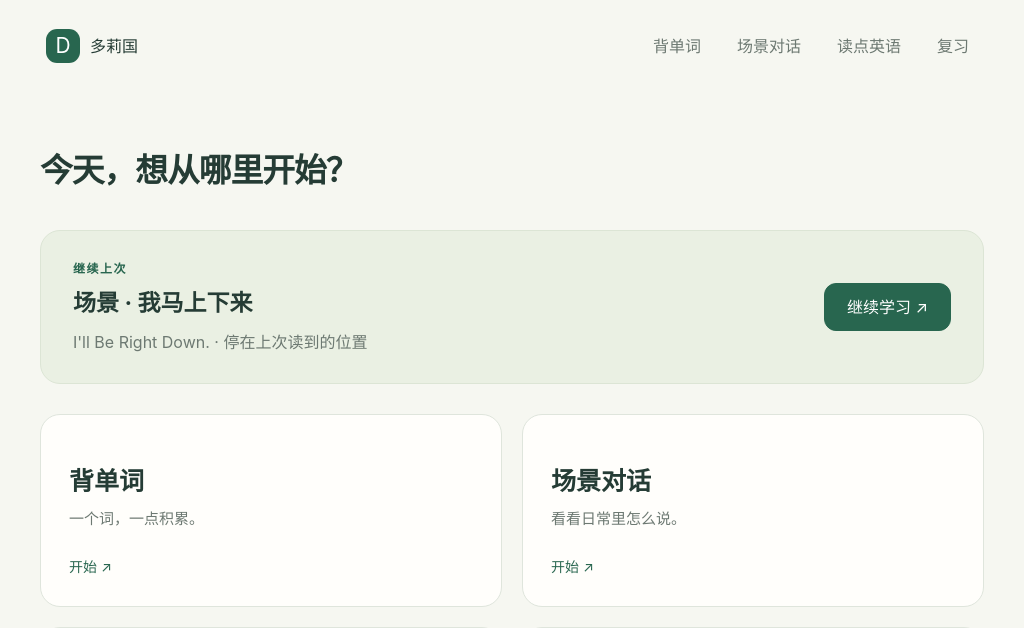
Test: resumes latest scene scene-ill-be-right-down directly
Click the button "继续学习 ↗" at (888, 307), box x1=824 y1=283 x2=951 y2=332
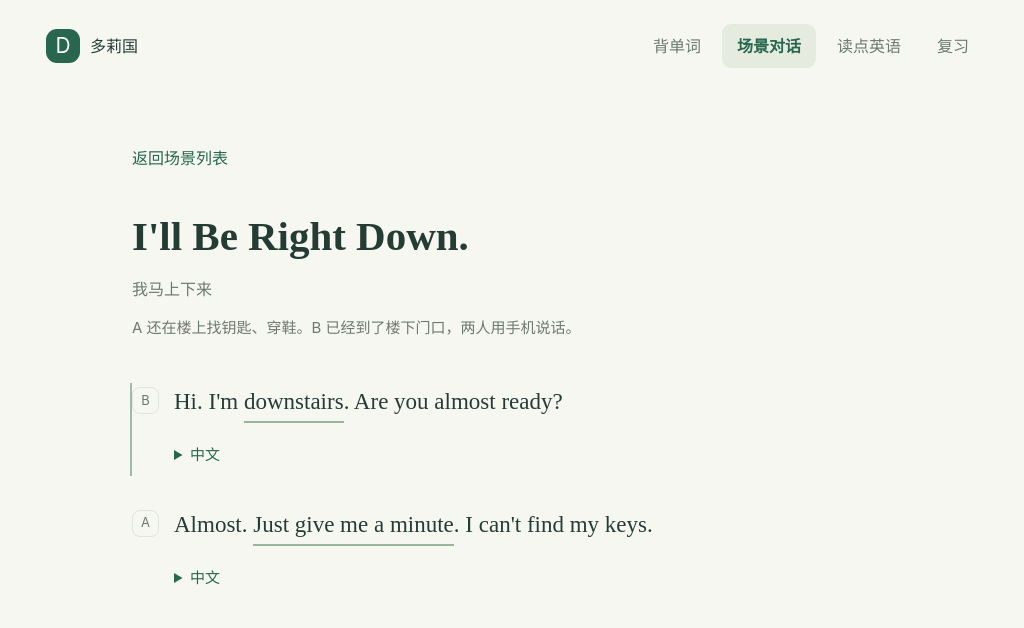
expect the heading "I'll Be Right Down." is shown: met, box x1=132 y1=213 x2=469 y2=259
